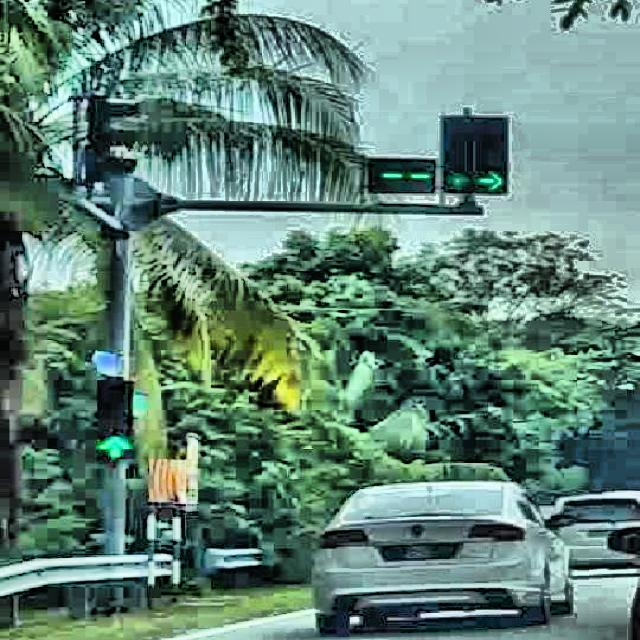green: (94, 380, 130, 458), (440, 115, 476, 193), (472, 114, 505, 194)
